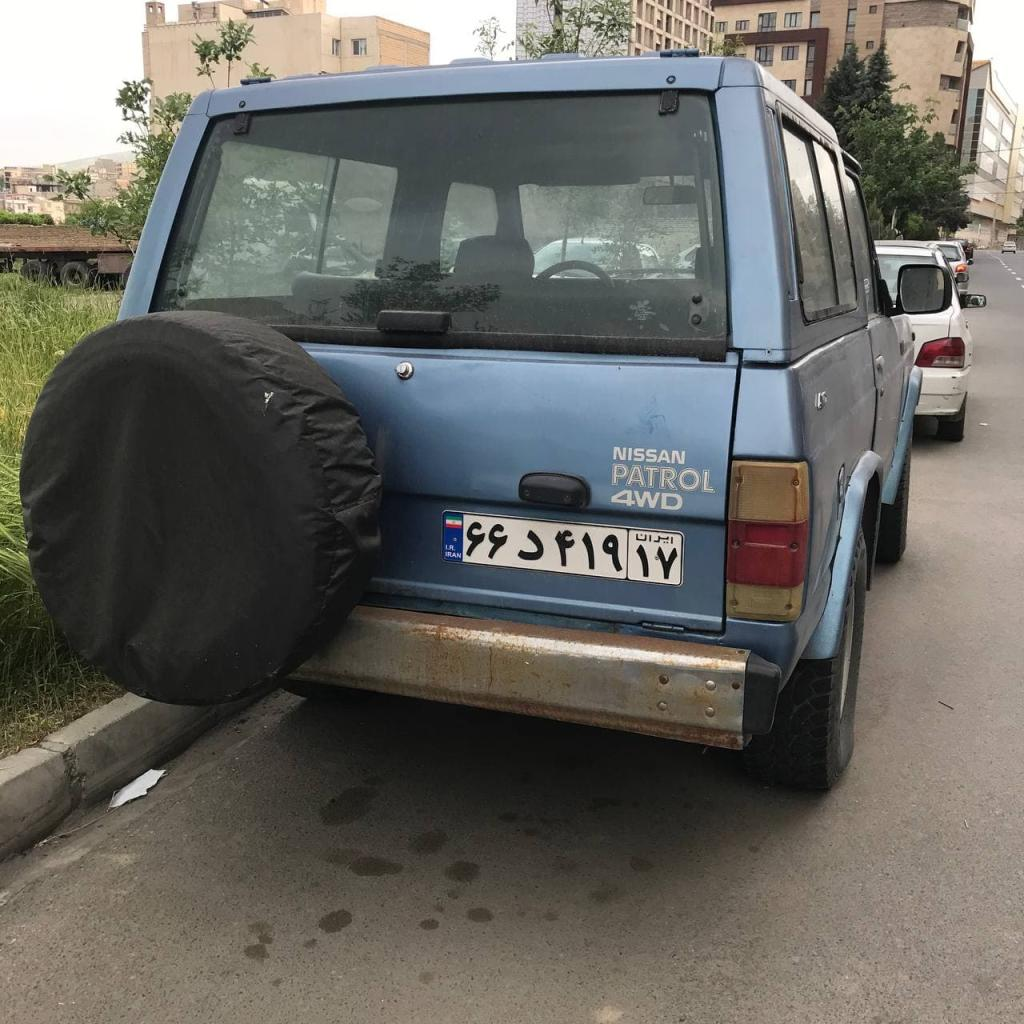Plates: (442, 511, 683, 585)
